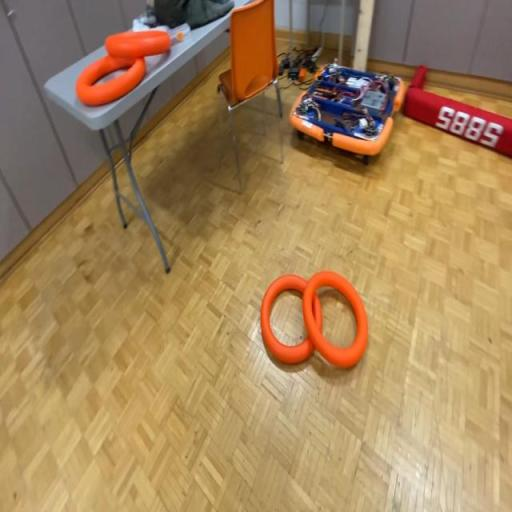robot: (288, 63, 407, 163)
